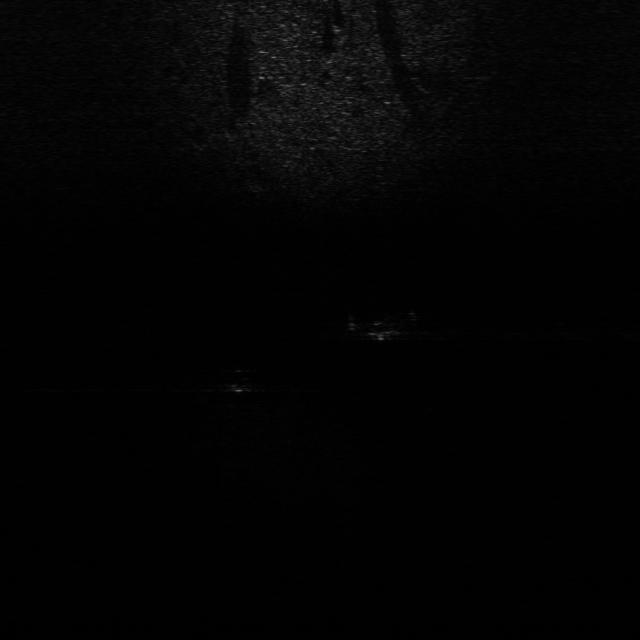ball: (223, 366, 259, 394)
human body: (337, 306, 433, 344)
